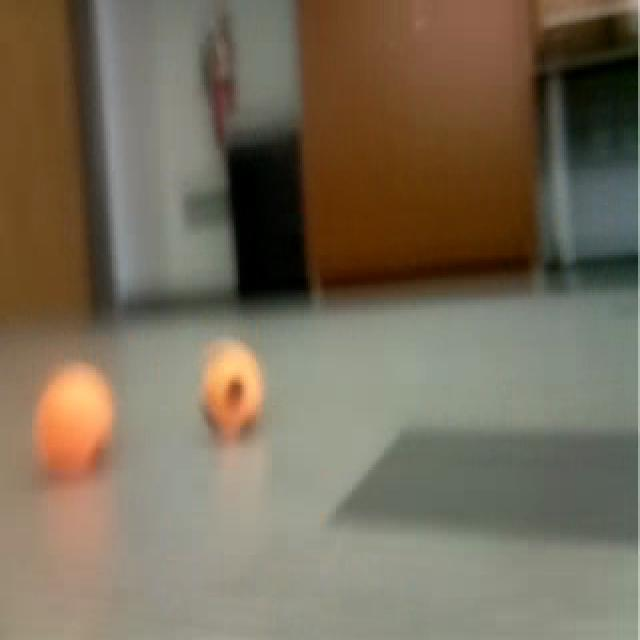oball: (26, 353, 121, 481), (190, 337, 272, 445)
